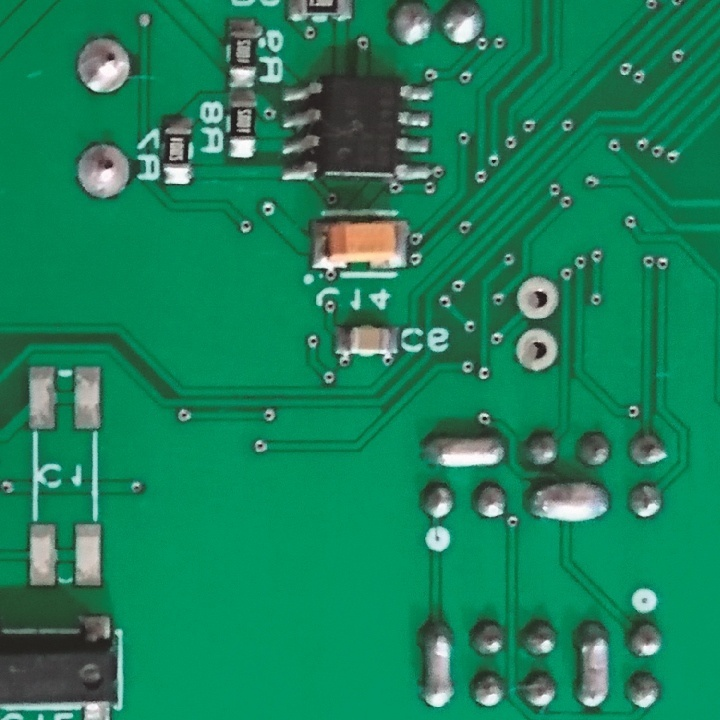F: (74, 33, 133, 97), (76, 140, 132, 204), (514, 326, 560, 377), (515, 275, 561, 323)
P: (525, 477, 612, 528), (413, 618, 459, 711), (571, 615, 613, 715), (419, 430, 511, 469)
